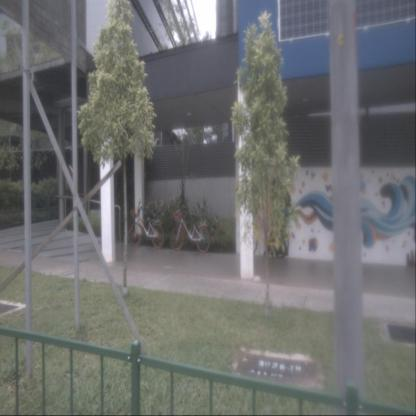vehicle-bicycle: (170, 203, 210, 254), (127, 201, 164, 250)
